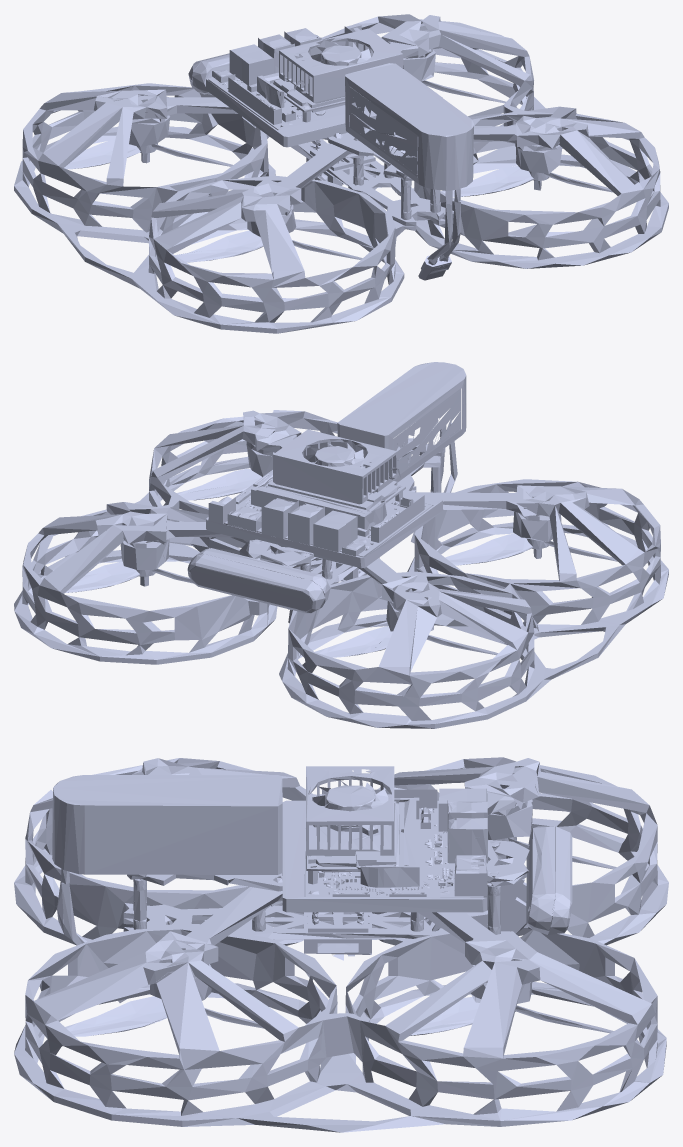
The model's file is fyp-drone-parts.glb.
The picture shows the model from 3 angles, top to bottom: view 1: azimuth 30°, elevation 25°; view 2: azimuth 150°, elevation 25°; view 3: azimuth 270°, elevation 25°; orthographic projection. The views are drawn at different scales.
Visible parts, largest first — view 1: part-frame, part-compute, part-power, part-motors, object 1, rotor-3, rotor-1, rotor-2, part-depth-camera; view 2: part-frame, part-compute, part-power, part-depth-camera, part-motors, rotor-1, rotor-2, rotor-4, rotor-3, object 1; view 3: part-frame, part-compute, part-power, part-depth-camera, object 1, rotor-3, part-motors, rotor-4, part-flight-controller.
Boxes of the visible parts, box(x1,y1,x2,y2) form: part-frame: box(14, 14, 668, 333); part-compute: box(206, 23, 442, 147); part-power: box(345, 63, 473, 190); part-motors: box(129, 48, 562, 236); object 1: box(310, 133, 460, 280); rotor-3: box(441, 166, 613, 197); rotor-1: box(175, 230, 362, 262); rotor-2: box(64, 139, 232, 169); part-depth-camera: box(188, 34, 322, 95); part-frame: box(14, 410, 668, 728); part-compute: box(206, 429, 443, 568); part-power: box(337, 362, 466, 482); part-depth-camera: box(187, 548, 330, 613); part-motors: box(120, 441, 561, 631); rotor-1: box(445, 533, 617, 565); rotor-2: box(314, 626, 498, 657); rotor-4: box(65, 561, 193, 592); rotor-3: box(176, 468, 262, 500); object 1: box(252, 423, 457, 579); part-frame: box(14, 757, 668, 1132); part-compute: box(282, 766, 487, 912); part-power: box(52, 775, 282, 877); part-depth-camera: box(526, 826, 572, 934); object 1: box(57, 841, 500, 1002); rotor-3: box(65, 996, 263, 1036); part-motors: box(149, 799, 532, 1003); rotor-4: box(410, 997, 613, 1035); part-flight-controller: box(204, 912, 399, 960).
Size of the model in its own units: 0.3314 by 0.101 by 0.2893.
